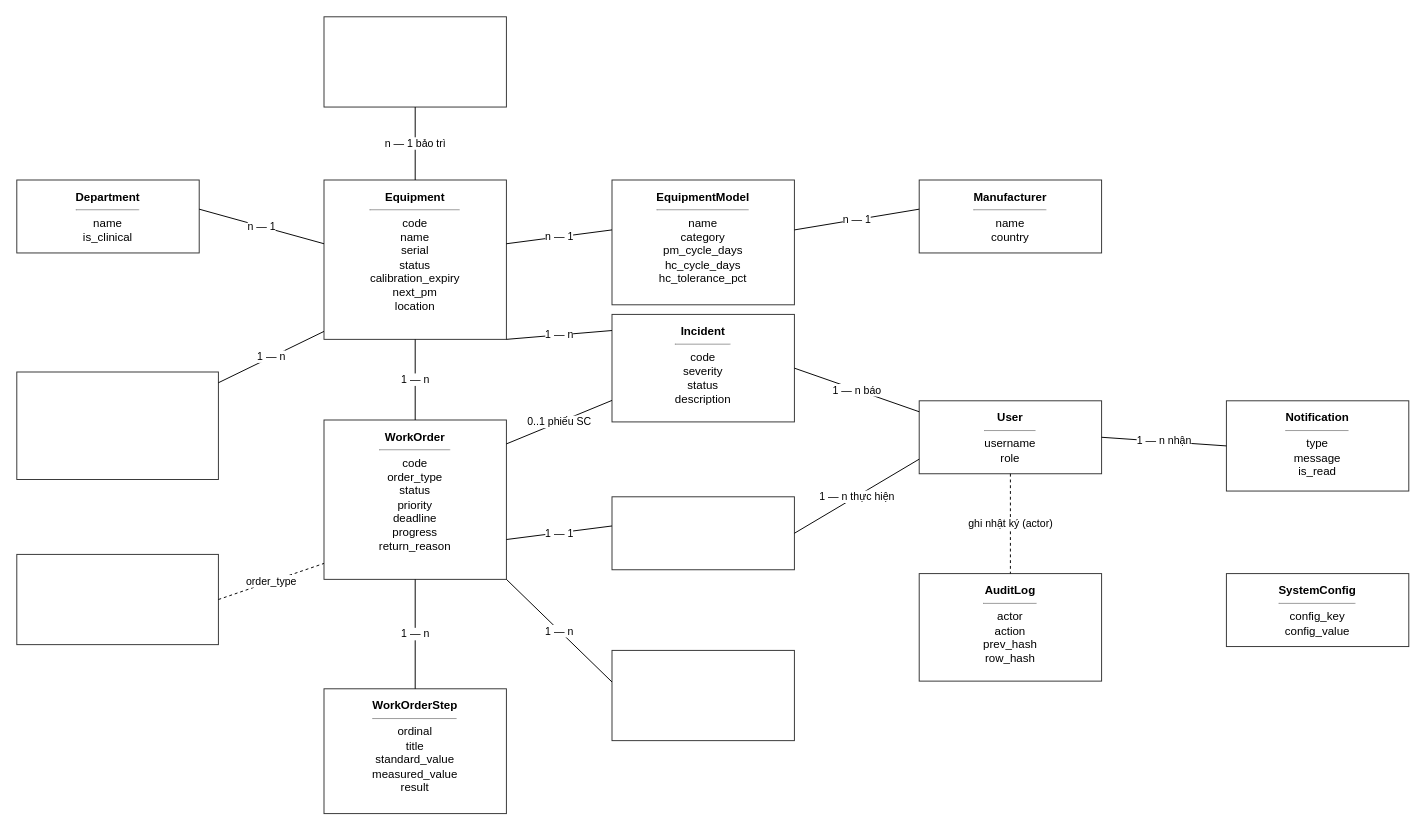
The diagram is 1426 pixels wide and 830 high, and some of its shapes have lost their labels. The centre of each missing label's shape, as x and y in pixels:
Assignment scheduled_date status: the point at 702,533
EquipmentStatusHistory from_status to_status changed_by reason: the point at 117,425
Evidence evidence_code file_name sha256: the point at 702,695
RequiredEvidenceConfig order_type evidence_code is_required: the point at 117,599
Supplier name contact_person contract_no: the point at 414,61
